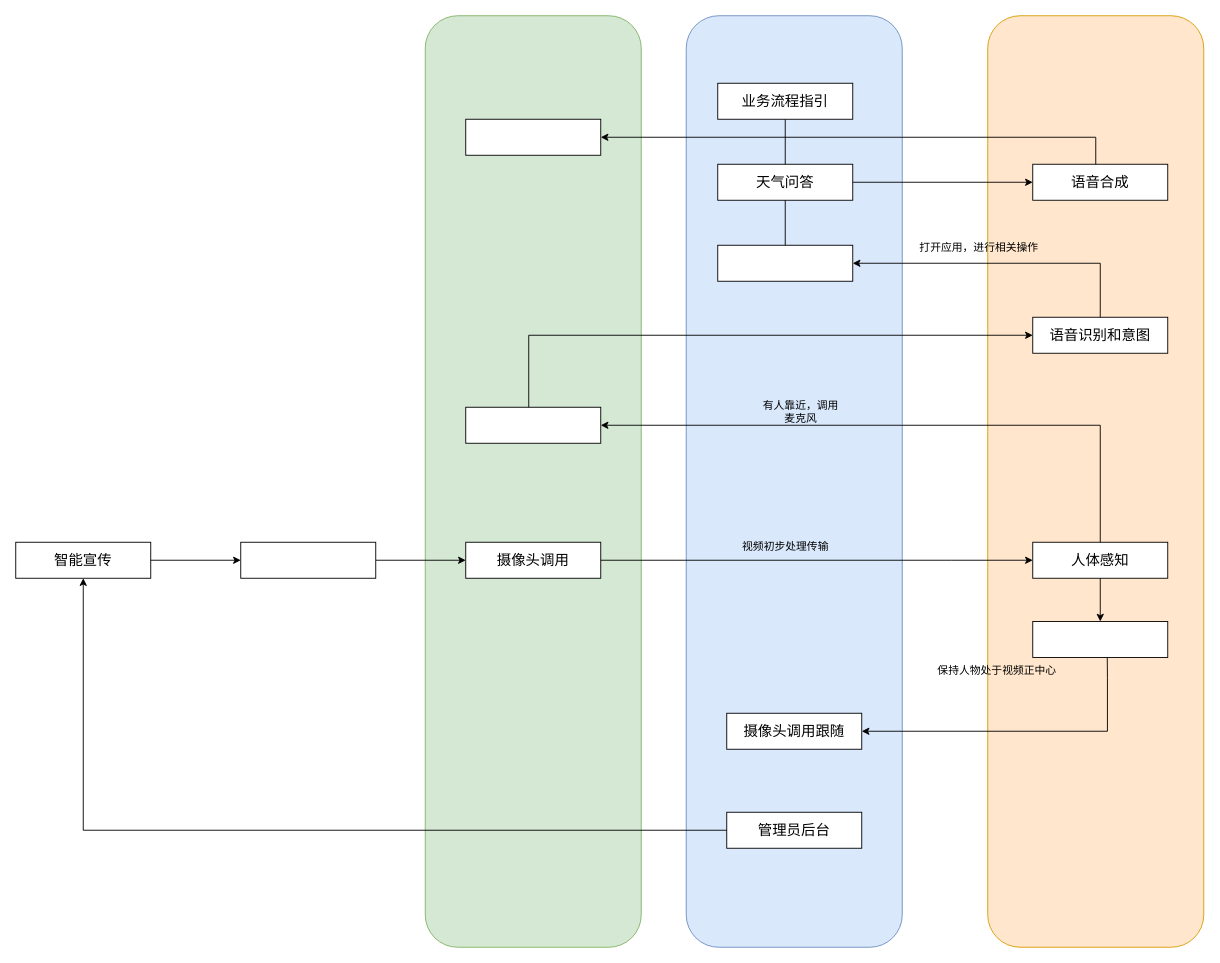
The diagram is 1220 pixels wide and 963 high, and some of its shapes have lost their labels. Each missing label, with the centre of its shape:
"人像识别跟随引擎" belongs at point 1100,639.
"屏幕交互" belongs at point 308,559.
"扬声器调用" belongs at point 533,136.
"自身应用功能" belongs at point 785,262.
"麦克风调用" belongs at point 533,424.
